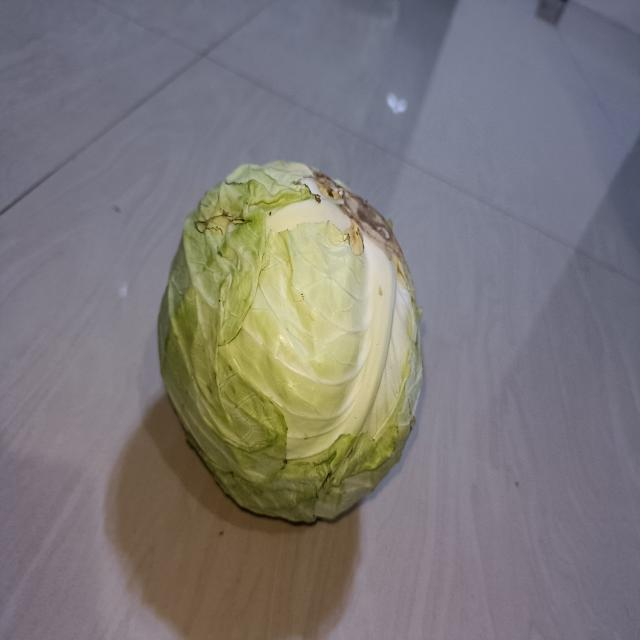cabbage: (154, 155, 429, 531)
